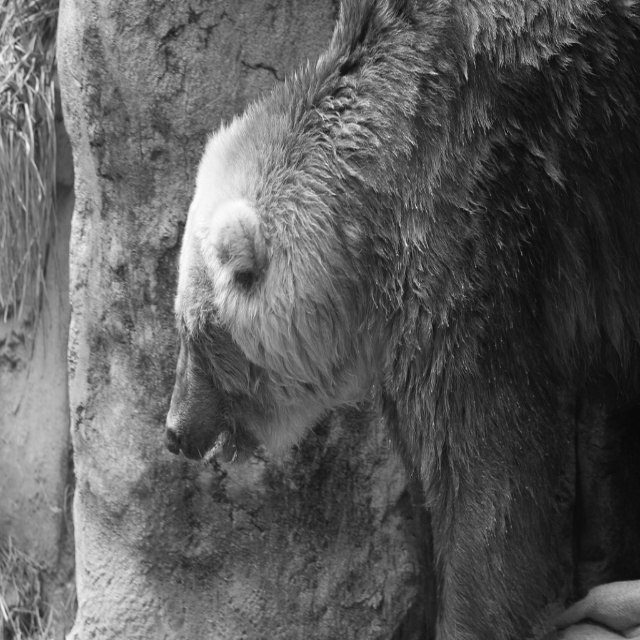Brown bear: (164, 0, 640, 639)
